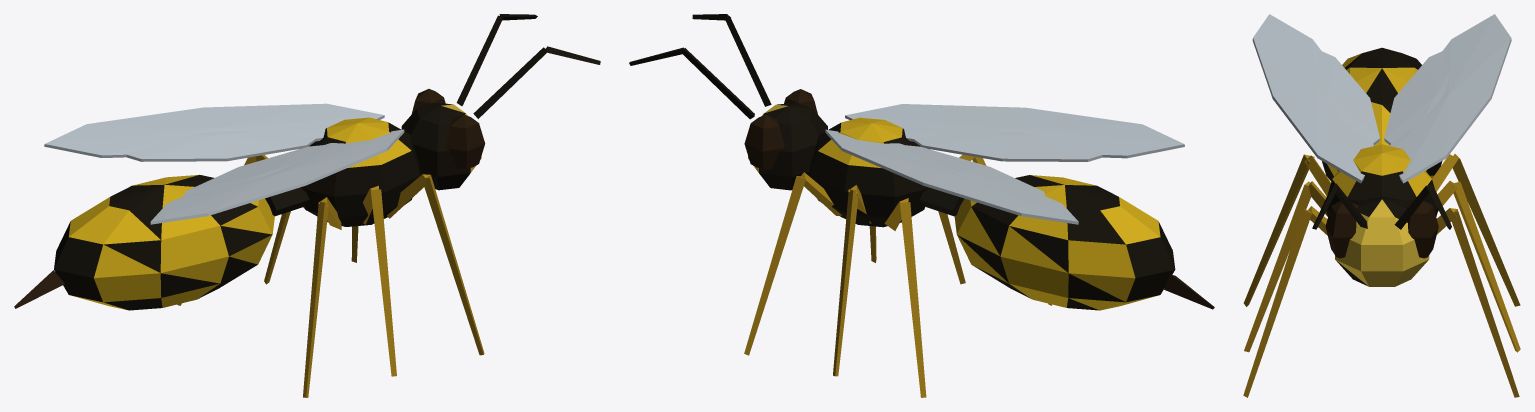
Rendered from creatures-hunting-wasp.glb.
3 views of the same model, side by side, from view 1: azimuth 30°, elevation 25°; view 2: azimuth 150°, elevation 25°; view 3: azimuth 270°, elevation 25° (orthographic). The views are drawn at different scales.
Bounding box in the file's own units: 10.03 × 4.38 × 4.09.
